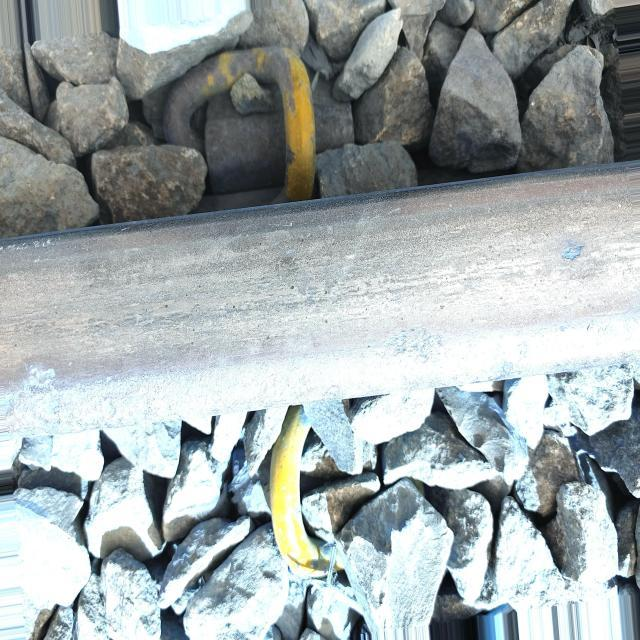squats_high: (24, 361, 60, 393), (562, 242, 584, 264)
